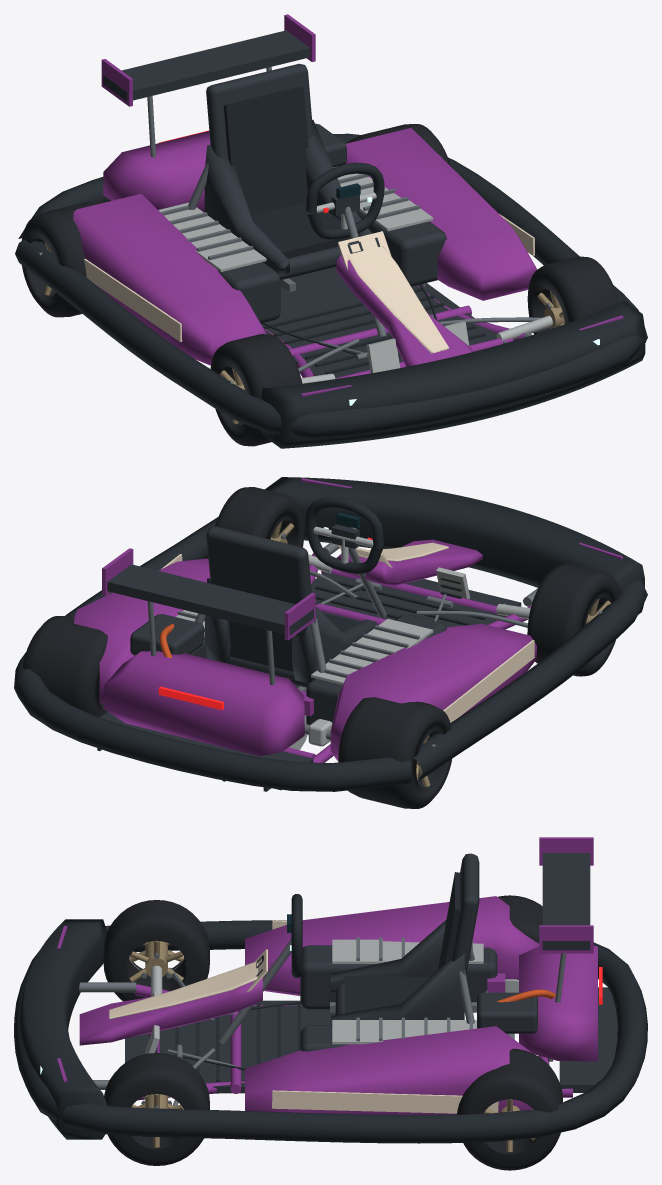
File: vortex.glb
3 views of the same model, one above another, from view 1: azimuth 30°, elevation 25°; view 2: azimuth 150°, elevation 25°; view 3: azimuth 270°, elevation 25° (orthographic).
Visible parts, largest first — view 1: Moulded bumper polymer (×3), paint, Satin composite, Slick vulcanised rubber (×4), Seat fabric, Livery ivory, Brushed alloy (×2), Steel fasteners; view 2: Moulded bumper polymer (×3), paint, Satin composite (×2), Slick vulcanised rubber (×4), Brushed alloy (×3), Steel fasteners, Livery ivory, brake_light; view 3: paint, Moulded bumper polymer (×3), Satin composite (×2), Slick vulcanised rubber (×4), Livery ivory, Brushed alloy, Steel fasteners (×2), Seat fabric, Magnesium wheel centres (×2).
Boxes of the visible parts, bbox=[...] form: Moulded bumper polymer (×3): bbox=[15, 133, 647, 448]; paint: bbox=[73, 14, 537, 378]; Satin composite: bbox=[103, 30, 496, 377]; Slick vulcanised rubber (×4): bbox=[21, 124, 618, 446]; Seat fabric: bbox=[223, 86, 359, 258]; Livery ivory: bbox=[84, 214, 534, 353]; Brushed alloy (×2): bbox=[158, 166, 552, 383]; Steel fasteners: bbox=[147, 67, 541, 372]; Moulded bumper polymer (×3): bbox=[14, 477, 647, 791]; paint: bbox=[73, 539, 536, 762]; Satin composite (×2): bbox=[97, 526, 521, 791]; Slick vulcanised rubber (×4): bbox=[22, 487, 620, 808]; Brushed alloy (×3): bbox=[176, 526, 530, 749]; Steel fasteners: bbox=[147, 547, 527, 740]; Livery ivory: bbox=[161, 542, 534, 722]; brake_light: bbox=[158, 686, 223, 709]; paint: bbox=[79, 837, 597, 1114]; Moulded bumper polymer (×3): bbox=[14, 894, 647, 1143]; Satin composite (×2): bbox=[125, 853, 617, 1093]; Slick vulcanised rubber (×4): bbox=[103, 895, 562, 1170]; Livery ivory: bbox=[109, 920, 498, 1113]; Brushed alloy: bbox=[151, 939, 518, 1044]; Steel fasteners (×2): bbox=[79, 937, 566, 1106]; Seat fabric: bbox=[344, 872, 460, 1013]; Magnesium wheel centres (×2): bbox=[129, 941, 183, 1147].
Size of the model in its own units: 2.17 by 1.01 by 2.8.
